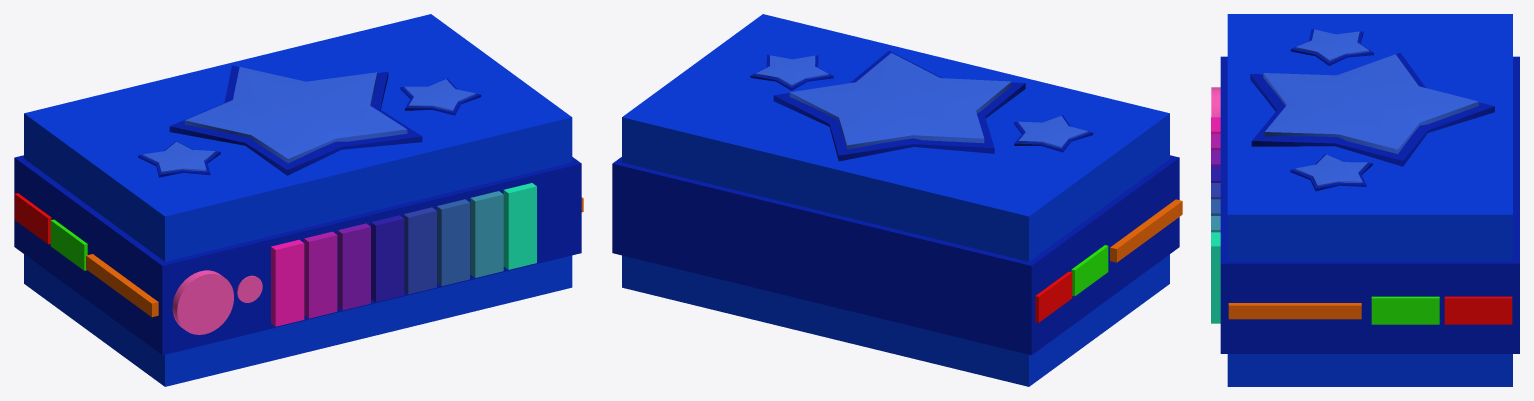
Rendered from PWR_BLOCK_AM.fbx.
3 renders of one model, left to right at view 1: azimuth 30°, elevation 25°; view 2: azimuth 150°, elevation 25°; view 3: azimuth 270°, elevation 25°, orthographic.
Visible parts, largest first — view 1: Main_Box, Outside_Line, Star button_TOP, Star button_TOP_outline, Front_BIG_button, Front_Light_07, Front_Light_01, Front_Light_02, Front_Light_03, Front_Light_08, Front_Light_04, Front_Light_05 (+9 smaller); view 2: Main_Box, Outside_Line, Star button_TOP, Star button_TOP_outline, Left_Side_Button_Orange, Star button_SMALL, Star button_SMALL_2, Left_Side_Button_RED, Left_Side_Button_GREEN, Star button_SMALL_outline002; view 3: Main_Box, Outside_Line, Star button_TOP, Star button_TOP_outline, RIGHT_Side_Button_Orange, RIGHT_Side_Button_GREEN, RIGHT_Side_Button_RED, Star button_SMALL, Star button_SMALL_2, Front_Light_08, Star button_SMALL_outline002, Star button_SMALL_outline001 (+1 smaller).
Part boxes in pixels (<box>): Main_Box: <box>24,14,572,386</box>; Outside_Line: <box>14,155,581,355</box>; Star button_TOP: <box>184,67,407,163</box>; Star button_TOP_outline: <box>169,65,422,175</box>; Front_BIG_button: <box>172,270,233,334</box>; Front_Light_07: <box>470,191,503,277</box>; Front_Light_01: <box>271,239,304,326</box>; Front_Light_02: <box>304,231,337,318</box>; Front_Light_03: <box>337,223,370,310</box>; Front_Light_08: <box>503,183,536,269</box>; Front_Light_04: <box>371,215,404,302</box>; Front_Light_05: <box>403,207,436,294</box>; Main_Box: <box>622,14,1169,386</box>; Outside_Line: <box>612,155,1179,355</box>; Star button_TOP: <box>789,53,1011,149</box>; Star button_TOP_outline: <box>773,50,1025,161</box>; Left_Side_Button_Orange: <box>1110,199,1182,262</box>; Star button_SMALL: <box>1018,116,1088,147</box>; Star button_SMALL_2: <box>755,55,828,85</box>; Left_Side_Button_RED: <box>1035,271,1072,322</box>; Left_Side_Button_GREEN: <box>1071,245,1108,296</box>; Star button_SMALL_outline002: <box>750,55,833,90</box>; Main_Box: <box>1227,14,1512,386</box>; Outside_Line: <box>1220,56,1519,353</box>; Star button_TOP: <box>1263,54,1478,153</box>; Star button_TOP_outline: <box>1250,52,1494,166</box>; RIGHT_Side_Button_Orange: <box>1228,303,1361,319</box>; RIGHT_Side_Button_GREEN: <box>1371,296,1439,324</box>; RIGHT_Side_Button_RED: <box>1444,296,1512,324</box>; Star button_SMALL: <box>1295,29,1369,61</box>; Star button_SMALL_2: <box>1295,154,1367,186</box>; Front_Light_08: <box>1211,232,1220,323</box>; Star button_SMALL_outline002: <box>1290,154,1372,191</box>; Star button_SMALL_outline001: <box>1290,29,1373,65</box>.
Bounding box in the file's own units: 530 × 212 × 325.
